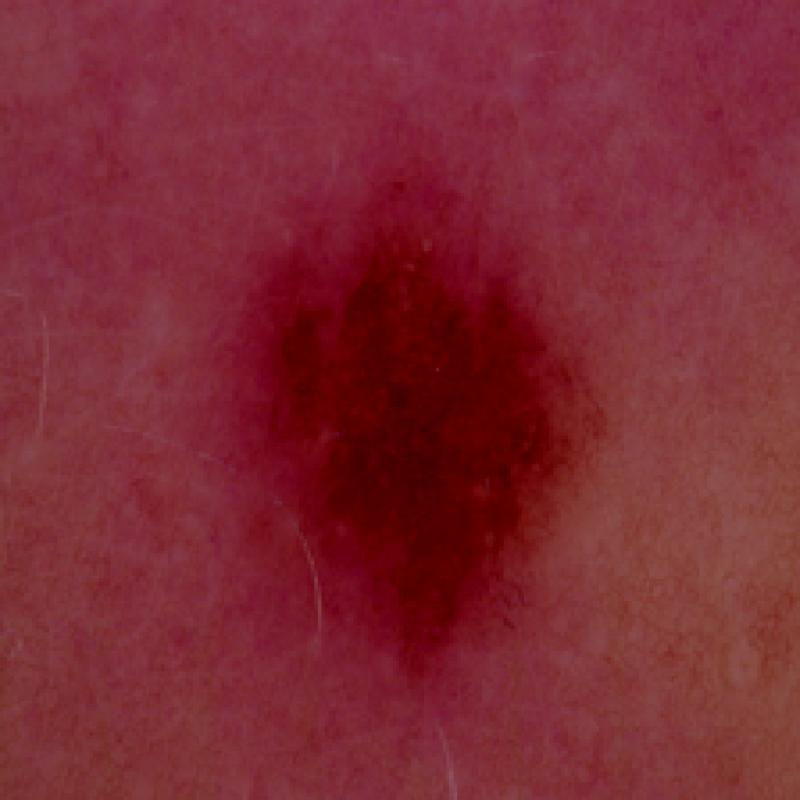benign: (211, 182, 598, 678)
